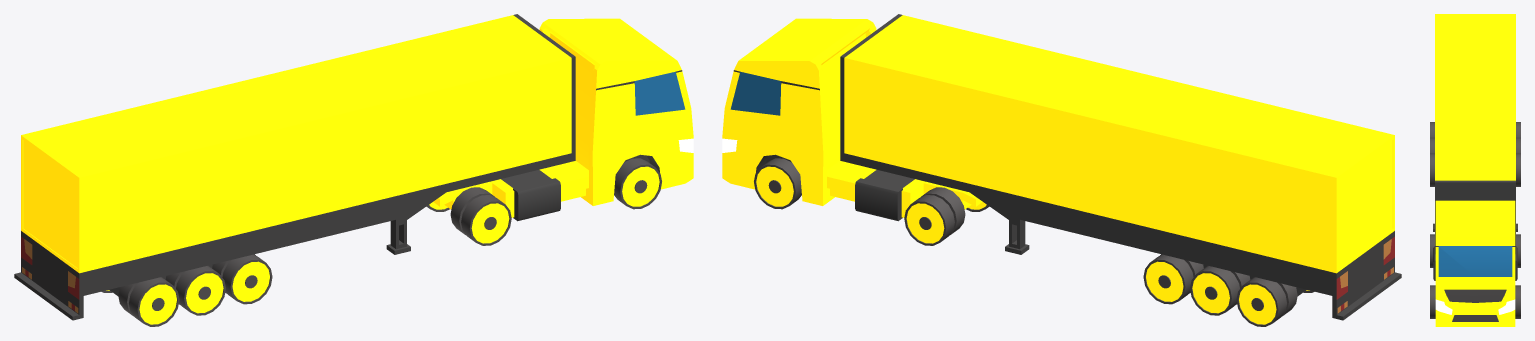
The model's file is truck_1.glb.
3 renders of one model, left to right at view 1: azimuth 30°, elevation 25°; view 2: azimuth 150°, elevation 25°; view 3: azimuth 270°, elevation 25°, orthographic. The views are drawn at different scales.
Visible parts, largest first — view 1: Object_9, Object_7, Object_9.001, Object_5; view 2: Object_9, Object_7, Object_9.001, Object_5; view 3: Object_9, Object_5, Object_7, Object_9.001, Object_8.001, Object_2.
Boxes of the visible parts, <box> form: Object_9: <box>21,15,693,273</box>; Object_7: <box>14,14,682,320</box>; Object_9.001: <box>101,158,661,326</box>; Object_5: <box>634,71,685,115</box>; Object_9: <box>722,15,1394,273</box>; Object_7: <box>733,14,1401,320</box>; Object_9.001: <box>754,158,1314,326</box>; Object_5: <box>730,71,781,115</box>; Object_9: <box>1435,14,1515,326</box>; Object_5: <box>1438,246,1512,276</box>; Object_7: <box>1433,180,1517,280</box>; Object_9.001: <box>1430,122,1520,318</box>; Object_8.001: <box>1444,289,1506,321</box>; Object_2: <box>1435,299,1515,314</box>.
Size of the model in its own units: 0.3273 by 0.0829 by 0.0598.
